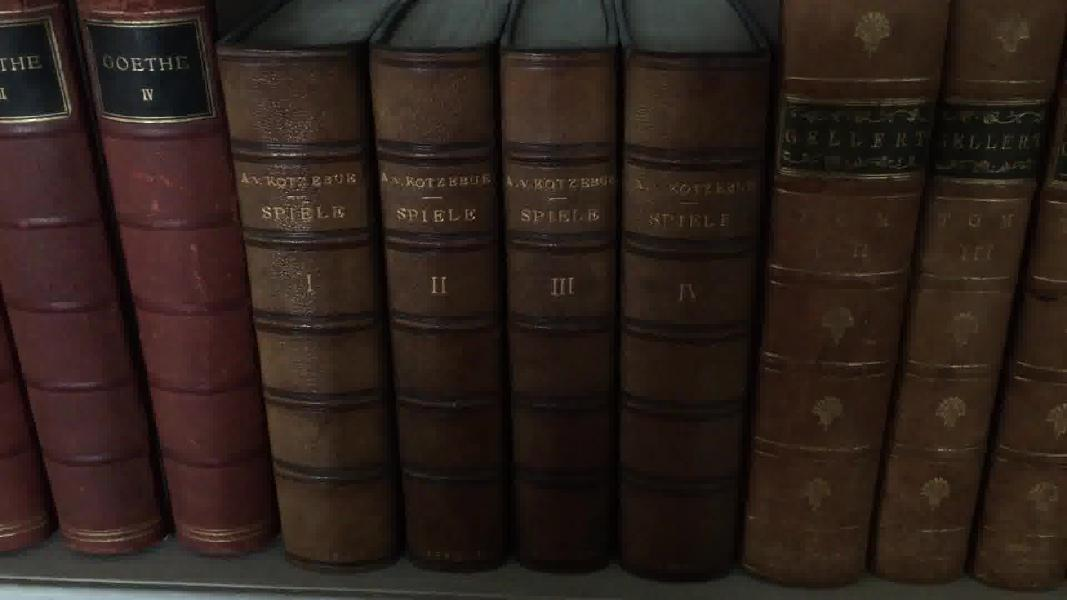Aa6-14_17: (204, 28, 783, 579)
